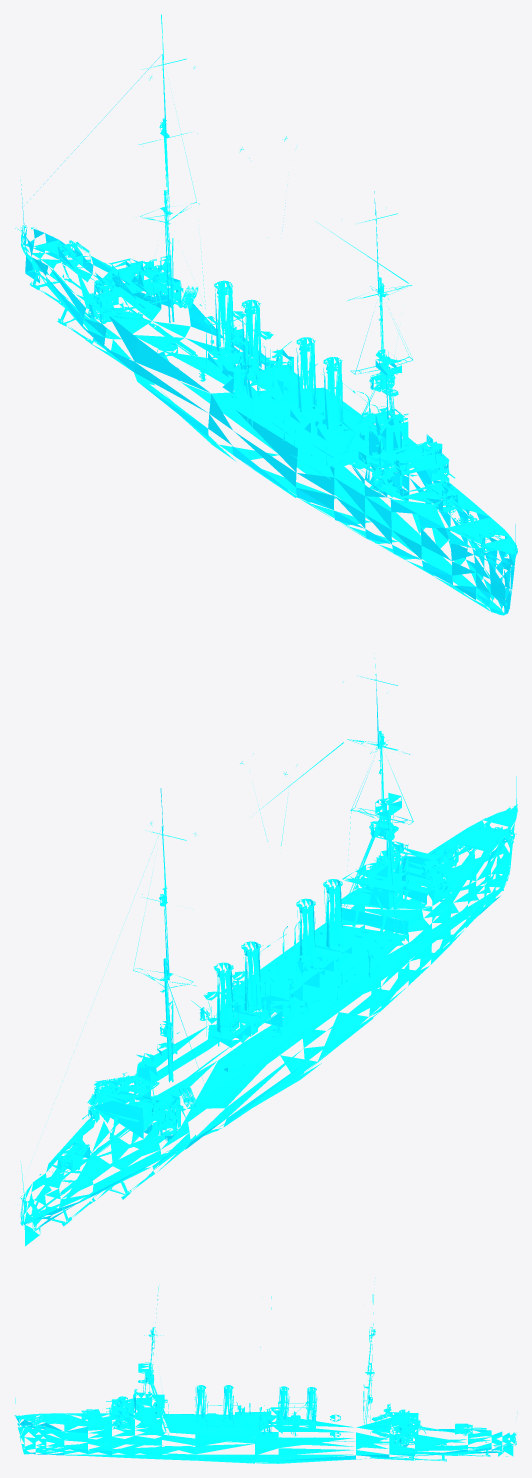
Rendered from PASC505.glb.
3 renders of one model, top to bottom at view 1: azimuth 30°, elevation 25°; view 2: azimuth 150°, elevation 25°; view 3: azimuth 270°, elevation 25°, orthographic. The views are drawn at different scales.
Visible parts, largest first — view 1: hull, turret; view 2: hull, turret; view 3: hull, turret.
Boxes of the visible parts, left/top/right/bottom form: hull: left=15, top=14, right=517, bottom=615; turret: left=49, top=236, right=466, bottom=512; hull: left=20, top=653, right=517, bottom=1246; turret: left=49, top=840, right=466, bottom=1172; hull: left=14, top=1278, right=517, bottom=1463; turret: left=68, top=1400, right=486, bottom=1439.
Size of the model in its own units: 1.36 by 4.52 by 11.35.
